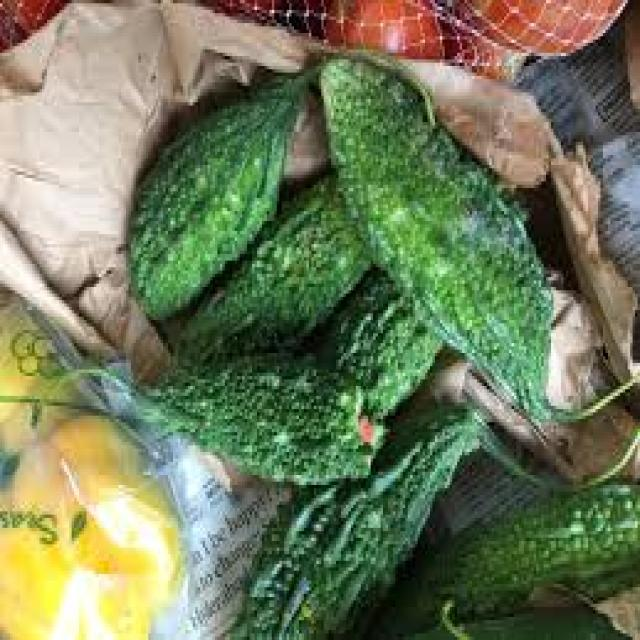organic waste: (318, 46, 638, 419), (123, 43, 435, 323), (225, 399, 541, 637), (360, 475, 638, 637), (163, 162, 371, 363), (0, 409, 183, 637), (148, 356, 373, 485), (304, 260, 440, 412), (0, 294, 74, 465), (396, 590, 626, 636), (444, 0, 622, 53), (309, 0, 440, 56), (437, 10, 519, 82), (0, 0, 62, 53), (200, 0, 284, 16)
